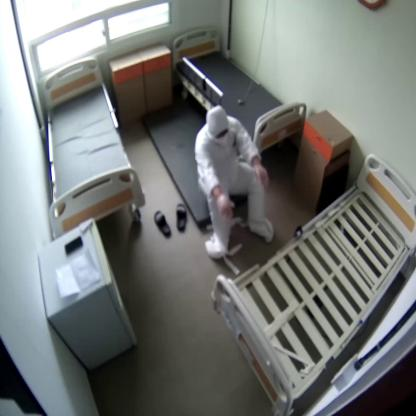Person: (195, 106, 274, 260)
